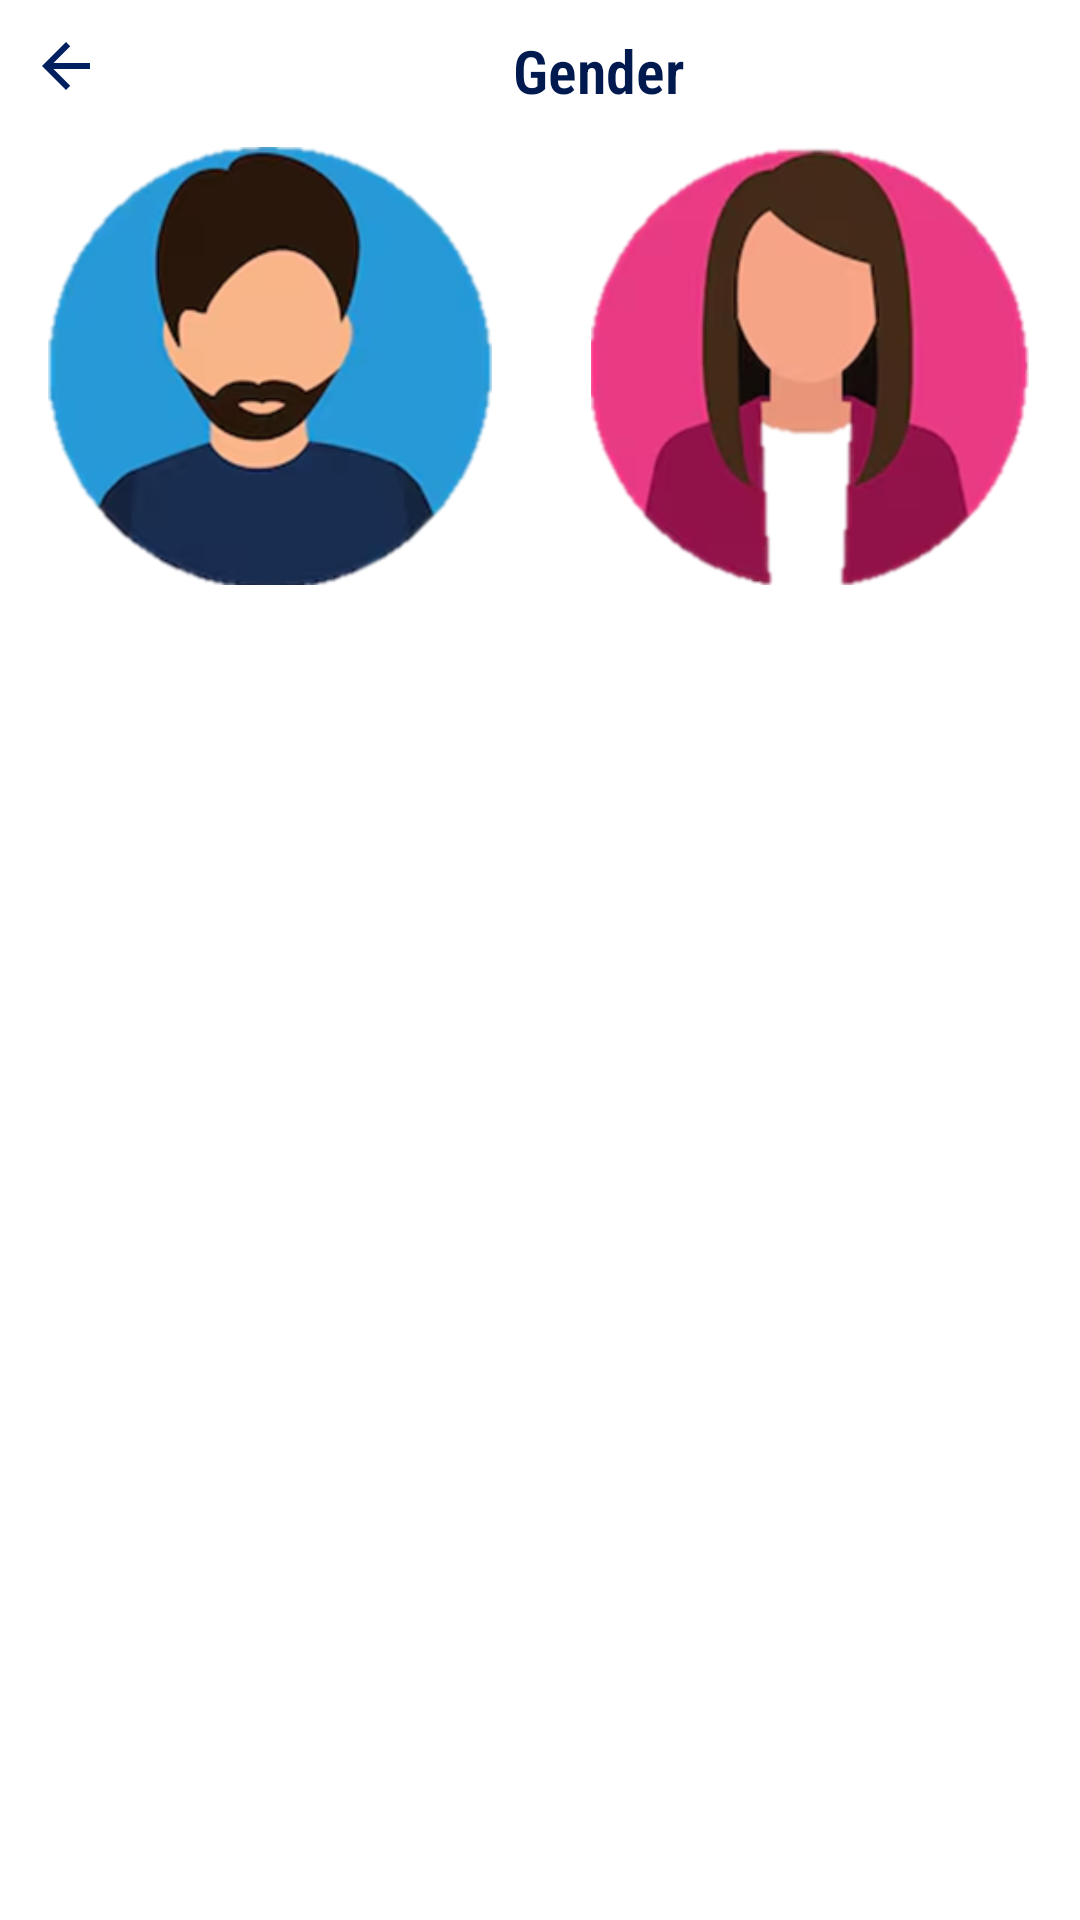

Icon click points for this 1080x1920 phone screenshot, format [x,y]:
back: [66,66]
